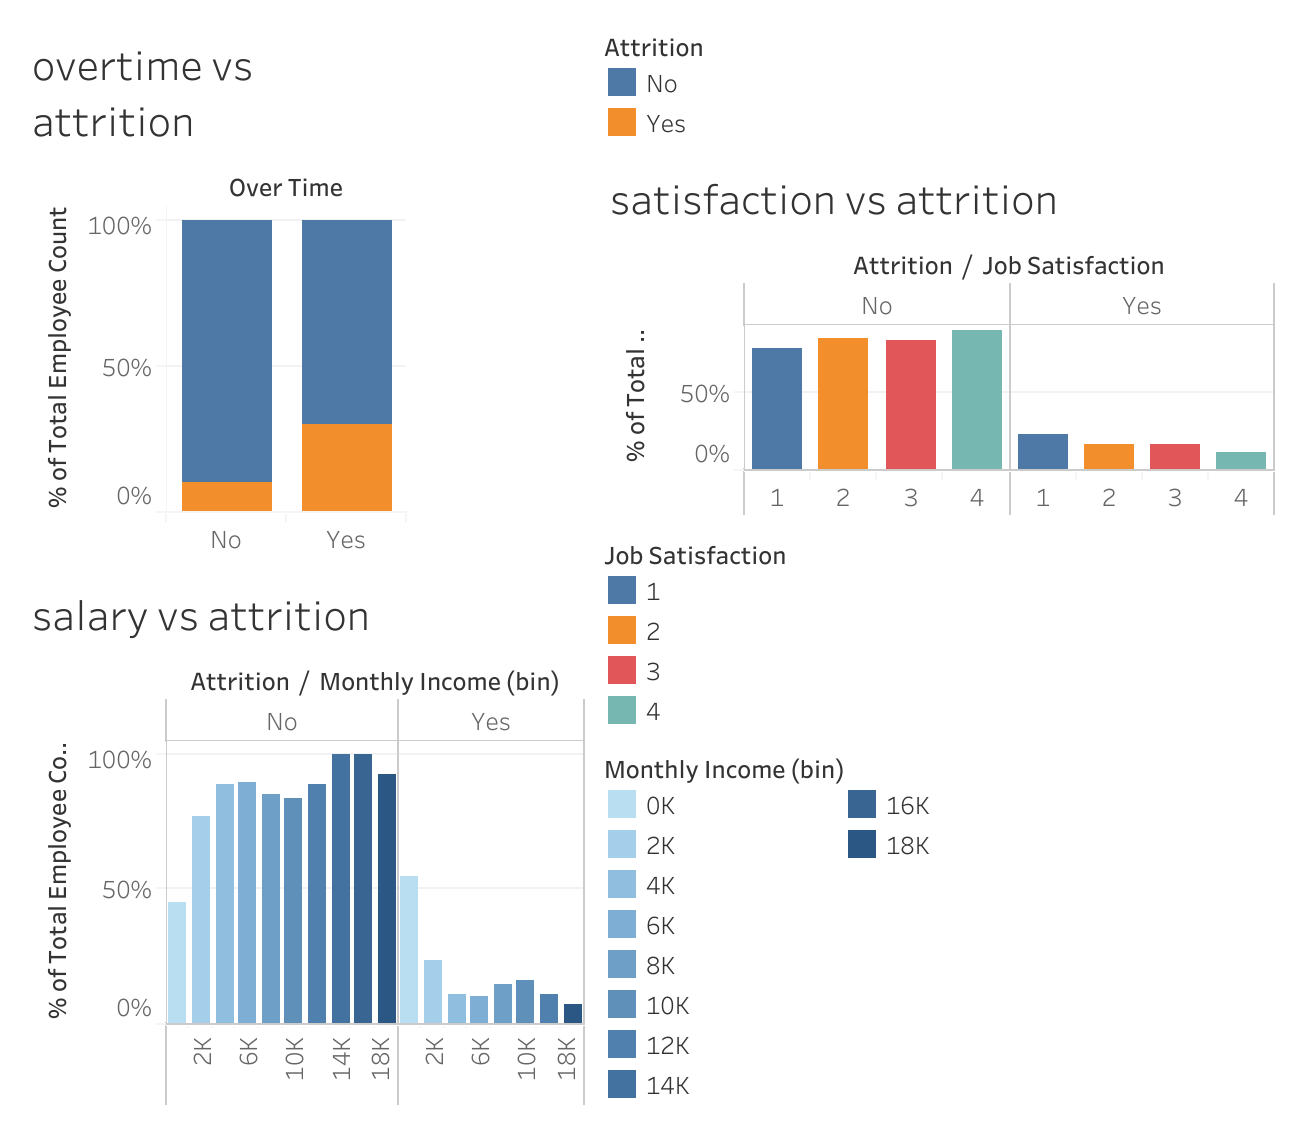

What the dashboard file says about the page in this screenshot:
{"tool":"tableau","page":{"name":"Dashboard 1","canvas":[650,860],"ordinal":0},"visuals":[{"type":"worksheet","title":"overtime vs attrition","mark":"Automatic","cols":["OverTime"],"box":[8,10.1,289,419.9]},{"type":"legend","title":"overtime vs attrition","param":"[federated.135ejk3079jwbu14fml6d1tbzvn8].[none:Attrition:nk]","box":[297,10.1,345,83.2]},{"type":"worksheet","title":"satisfaction vs attrition","mark":"Automatic","cols":["Attrition","JobSatisfaction"],"box":[297,93.3,345,337.9]},{"type":"worksheet","title":"salary vs attrition","mark":"Automatic","cols":["Attrition","Monthly Income (bin)"],"box":[8,430,289,419.9]},{"type":"legend","title":"satisfaction vs attrition","param":"[federated.135ejk3079jwbu14fml6d1tbzvn8].[none:JobSatisfaction:ok]","box":[297,431.3,345,133.7]},{"type":"legend","title":"salary vs attrition","param":"[federated.135ejk3079jwbu14fml6d1tbzvn8].[none:Monthly Income (bin):ok]","box":[297,564.9,345,285]}]}

Visuals, with their boxes on the page's 650x860 design canvas (x1, y1, x2, y2). These are canvas units, not pixel positions in the 1298x1128 screenshot, which may show the page scaled, cropped or inside an application window:
"overtime vs attrition" worksheet: select_region(8, 10, 297, 430)
"overtime vs attrition" legend: select_region(297, 10, 642, 93)
"satisfaction vs attrition" worksheet: select_region(297, 93, 642, 431)
"salary vs attrition" worksheet: select_region(8, 430, 297, 850)
"satisfaction vs attrition" legend: select_region(297, 431, 642, 565)
"salary vs attrition" legend: select_region(297, 565, 642, 850)
